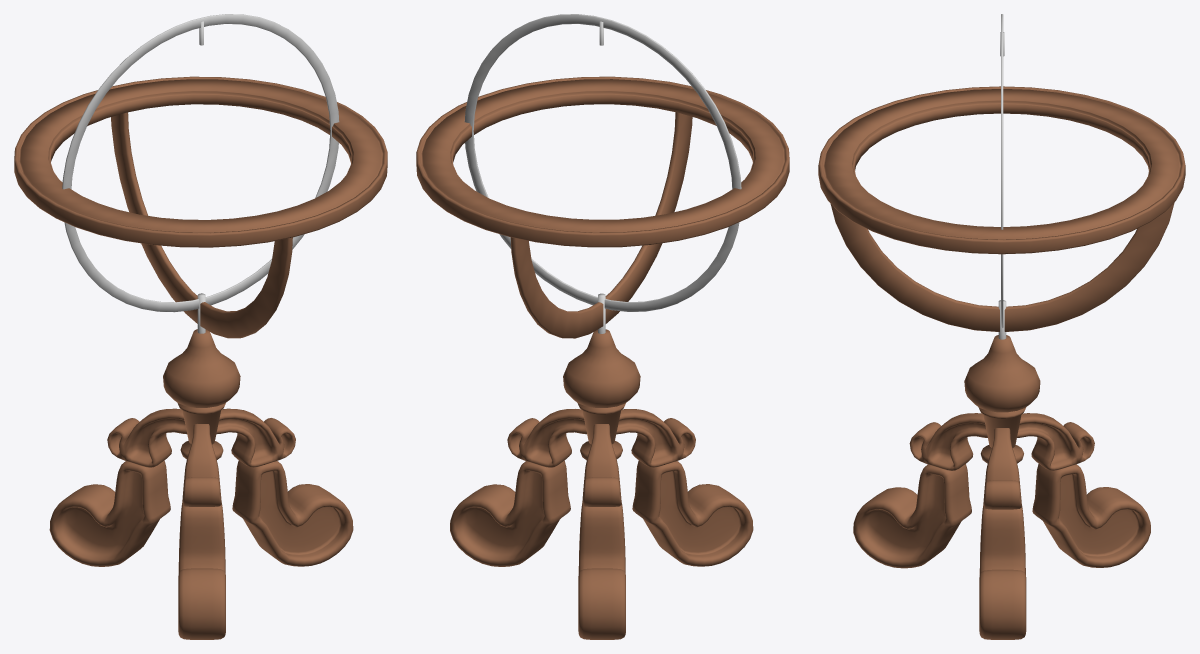
Rendered from Globe.fbx.
3 views of the same model, side by side, from view 1: azimuth 30°, elevation 25°; view 2: azimuth 150°, elevation 25°; view 3: azimuth 270°, elevation 25° (orthographic).
Visible parts, largest first — view 1: Cube; view 2: Cube; view 3: Cube.
Part boxes in pixels (<box>): Cube: <box>14,14,387,639</box>; Cube: <box>416,14,789,639</box>; Cube: <box>818,14,1185,639</box>.
Bounding box in the file's own units: 448 × 750 × 448.
